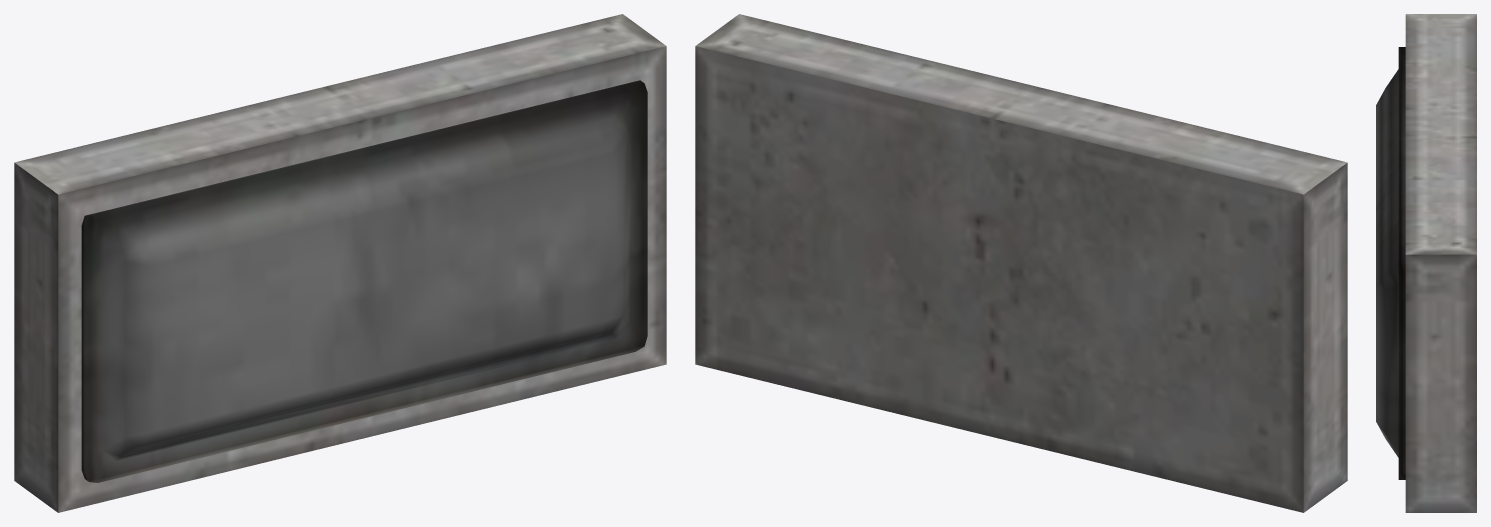
File: backlit_sign_arrow_right_white.glb
3 views of the same model, side by side, from view 1: azimuth 30°, elevation 25°; view 2: azimuth 150°, elevation 25°; view 3: azimuth 270°, elevation 25° (orthographic). The views are drawn at different scales.
Visible parts, largest first — view 1: backlit_sign_arrow_right_LOD0; view 2: backlit_sign_arrow_right_LOD0; view 3: backlit_sign_arrow_right_LOD0.
Part boxes in pixels (left/top/right/bottom): backlit_sign_arrow_right_LOD0: left=14, top=14, right=666, bottom=512; backlit_sign_arrow_right_LOD0: left=695, top=14, right=1347, bottom=512; backlit_sign_arrow_right_LOD0: left=1376, top=14, right=1476, bottom=512.
Size of the model in its own units: 0.5 by 0.25 by 0.0886.
Materials: 2 (2 with a texture image).
